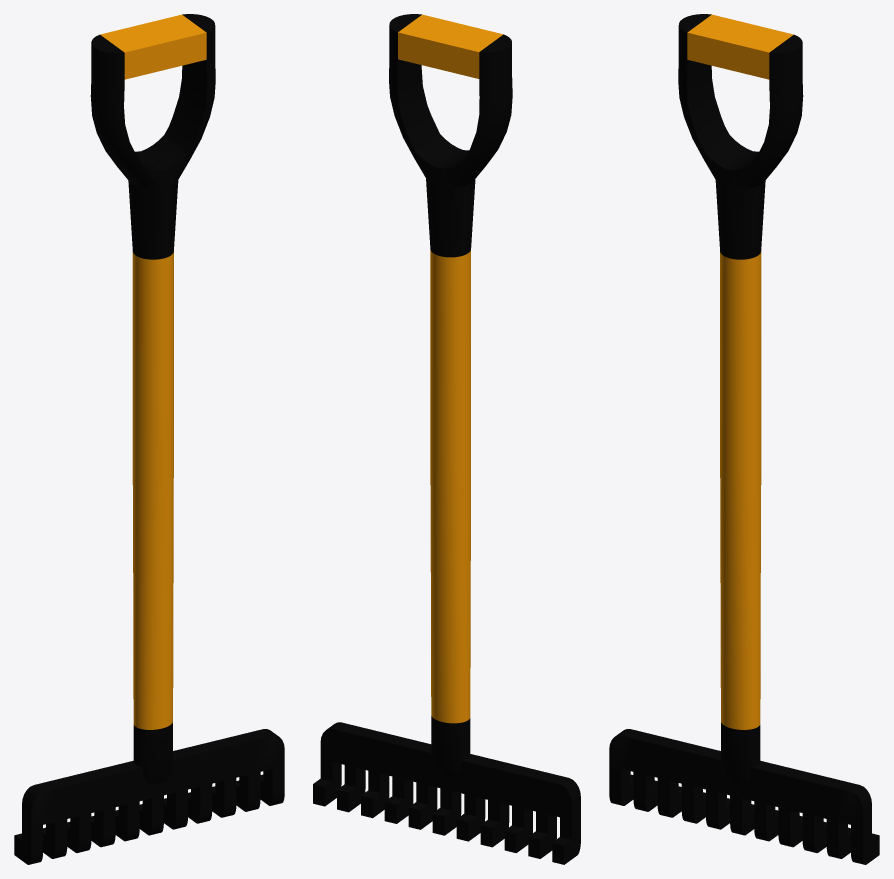
File: rake.obj
3 renders of one model, left to right at view 1: azimuth 30°, elevation 25°; view 2: azimuth 150°, elevation 25°; view 3: azimuth 330°, elevation 25°, orthographic.
Parts seen in each view (by area): view 1: rake; view 2: rake; view 3: rake.
Boxes of the visible parts, x1=… form: rake: x1=14, y1=14, x2=284, y2=864; rake: x1=313, y1=14, x2=580, y2=864; rake: x1=609, y1=14, x2=879, y2=864.
Bounding box in the file's own units: 0.32 × 0.9637 × 0.055.
